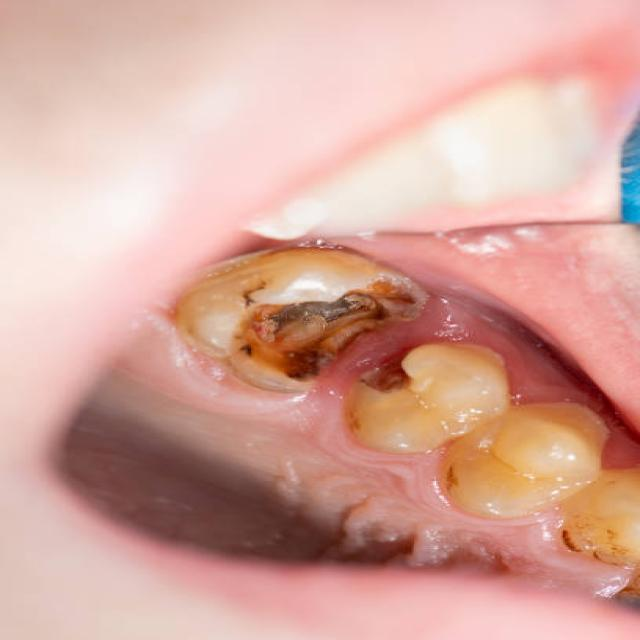caries: (202, 266, 425, 402)
